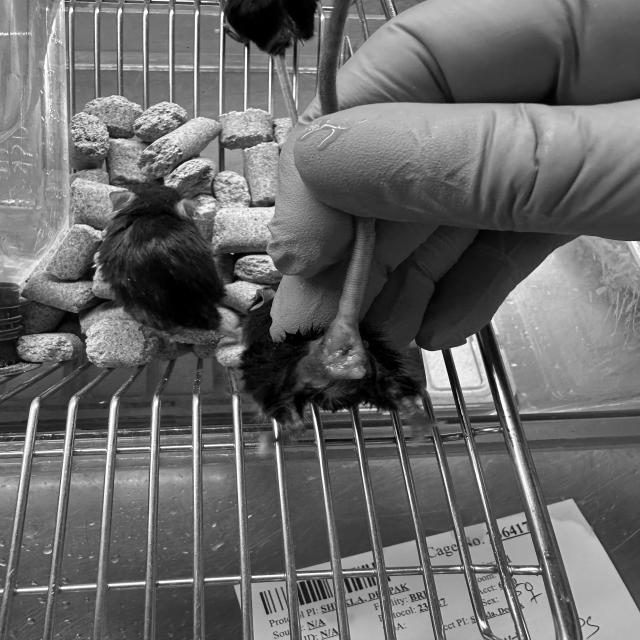Genital: (234, 313, 419, 437)
